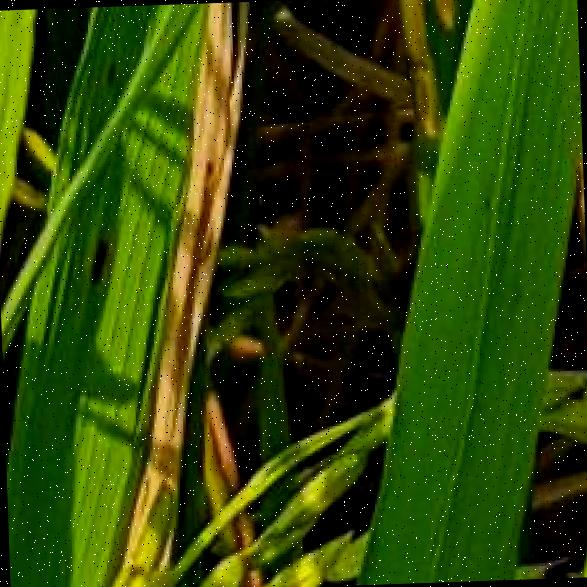Bacteria_Leaf_Blight: (121, 10, 260, 534)
